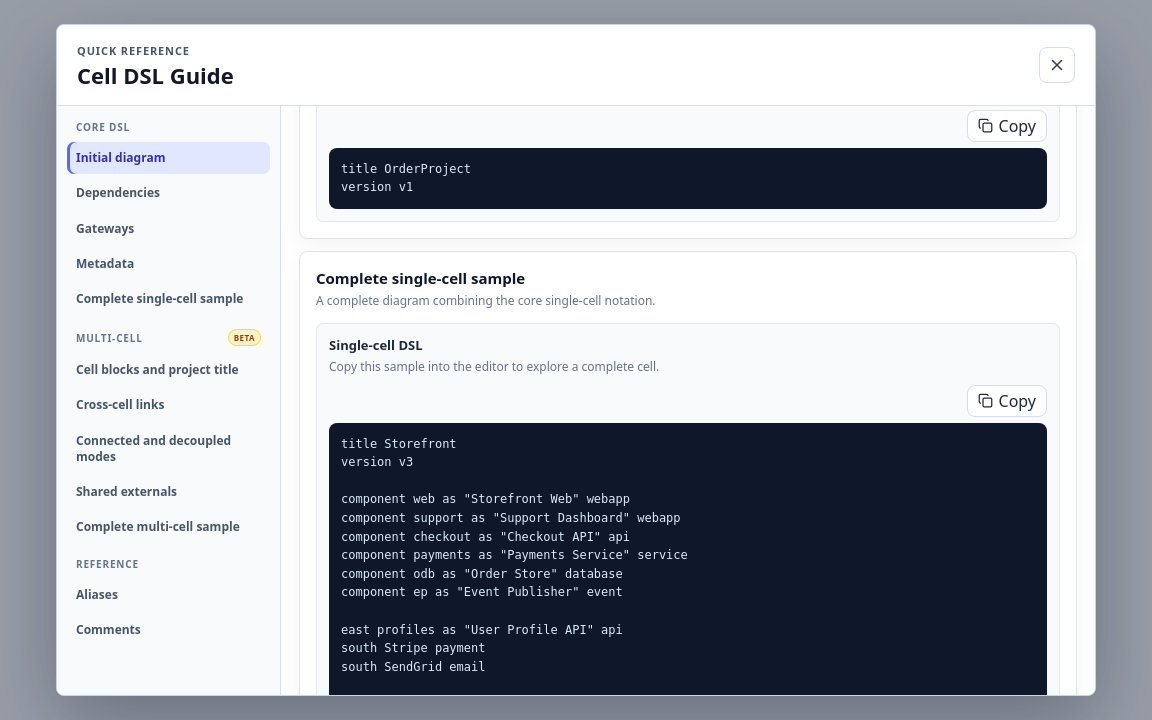
Test case: DslGuide › keeps the complete single-cell and multi-cell samples copyable
(page scrolled)
What coordinates should you click on to do the following:
click the button with aria-label "Copy Single-cell DSL example"
I would click on:
 (1007, 401)
Its box is [966,385,1047,417].
(page scrolled)
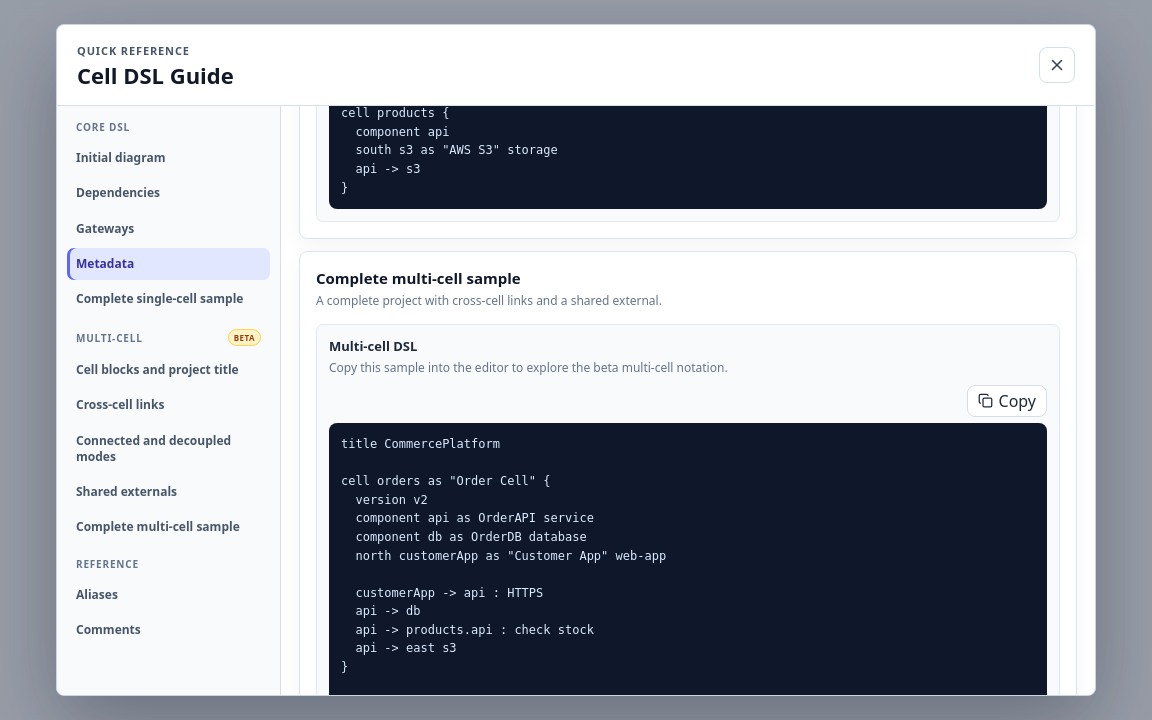
What coordinates should you click on to do the following:
click the button with aria-label "Copy Multi-cell DSL example"
I would click on:
 (1007, 401)
Its box is [966,385,1047,417].
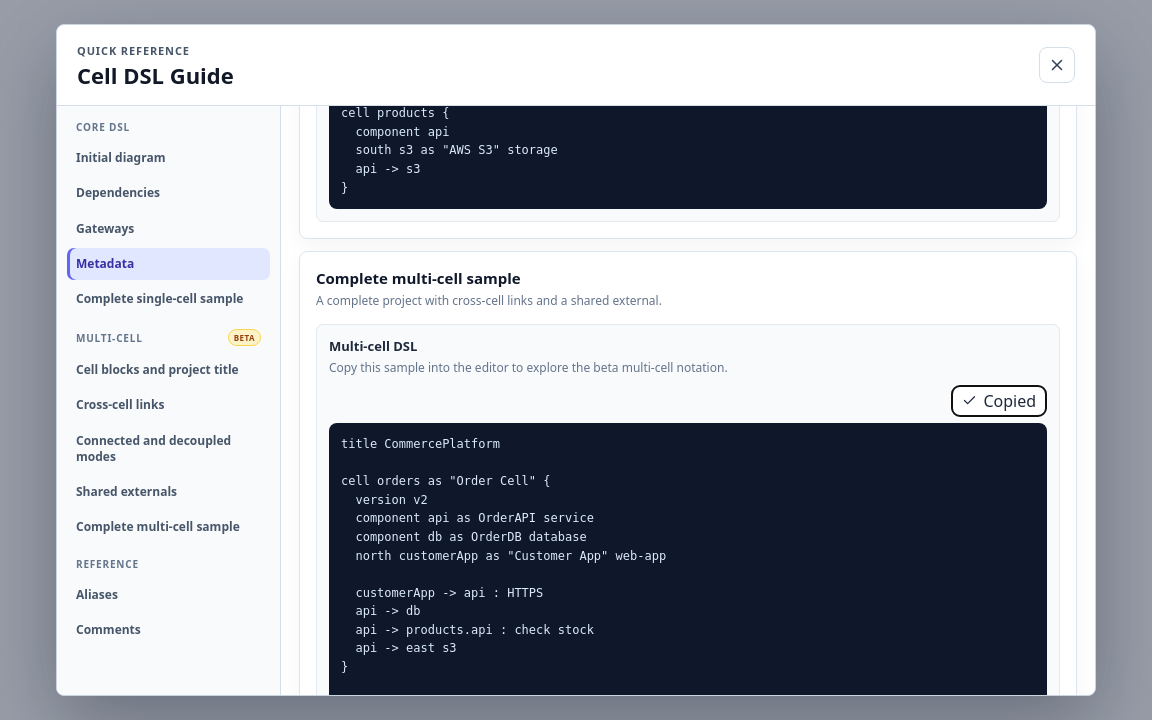
expect the button with aria-label "Copy Multi-cell DSL example" reads "Copied": met, box [951,385,1047,417]
